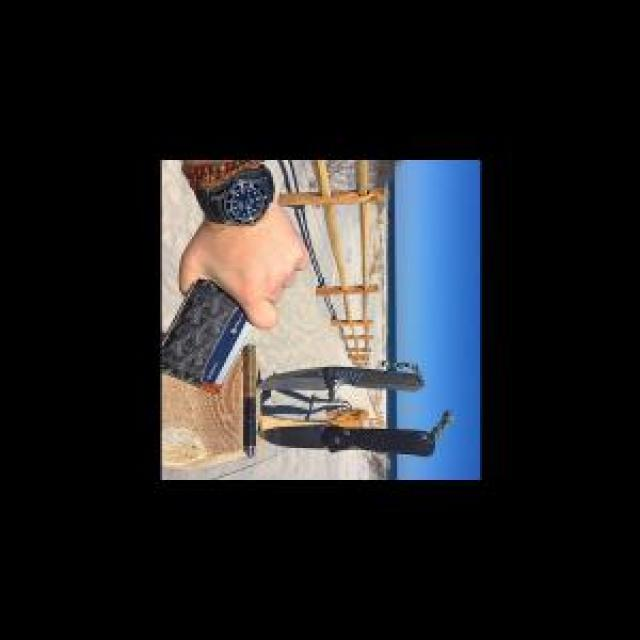knife: (258, 350, 442, 401), (254, 414, 455, 452)
